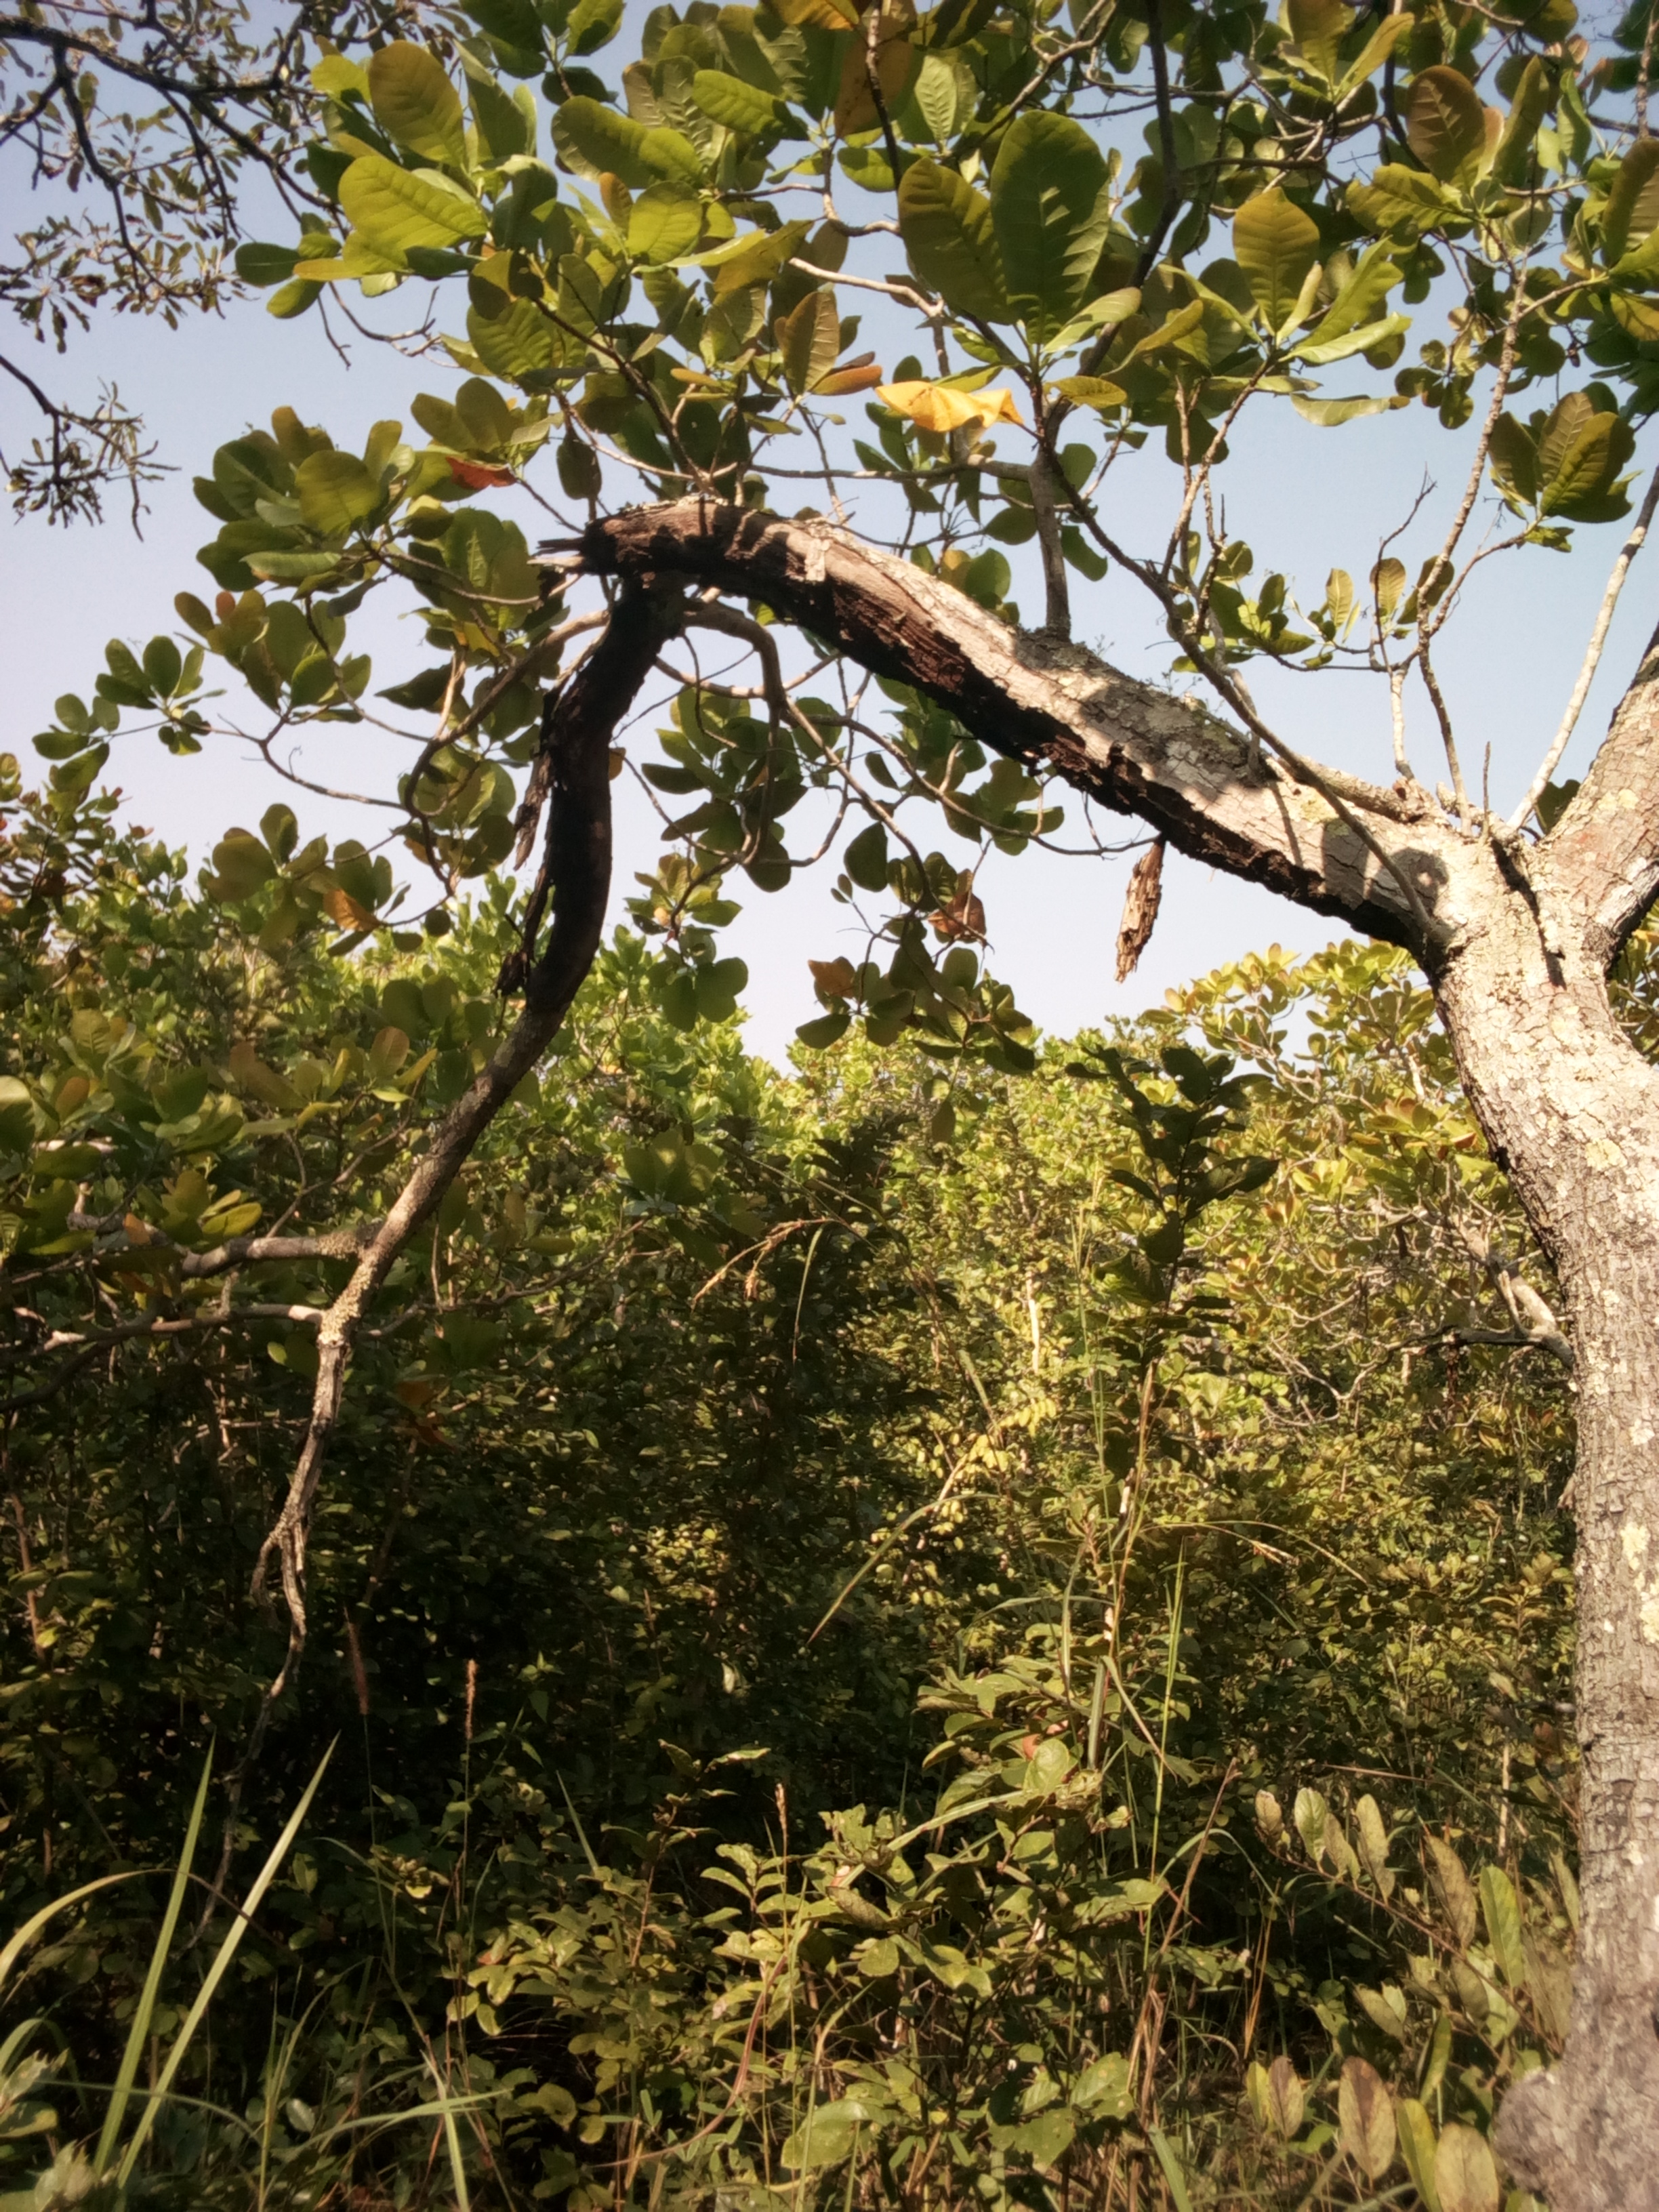Termites: (1117, 784, 1408, 953)
